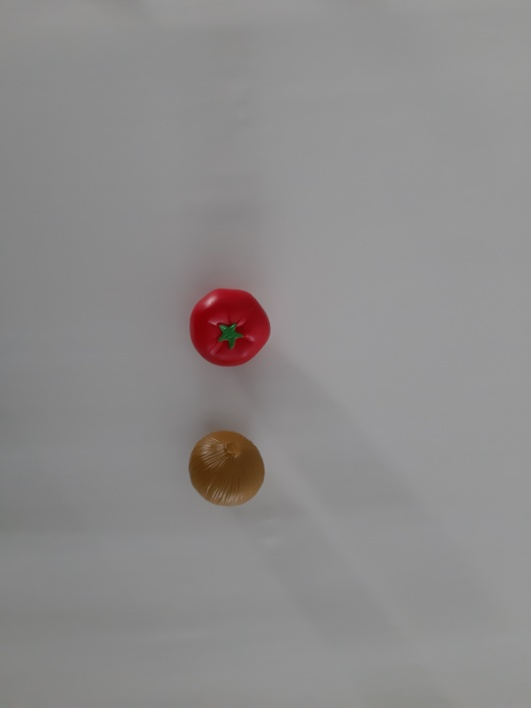onion: (179, 423, 274, 520)
tomato: (174, 277, 287, 380)
